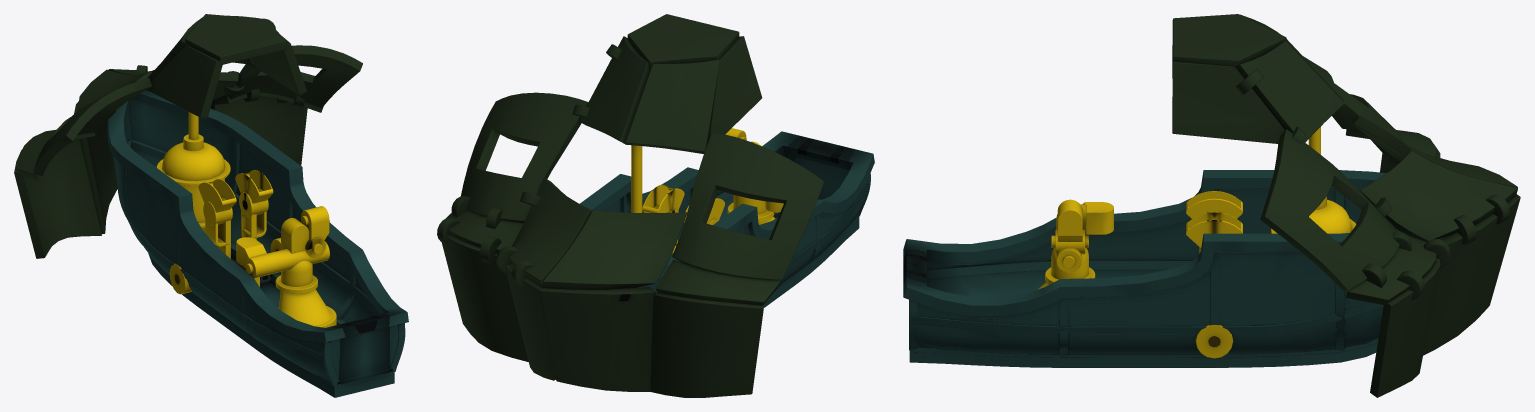
The model's file is NewBoat.glb.
The picture shows the model from 3 angles, left to right: view 1: azimuth 30°, elevation 25°; view 2: azimuth 150°, elevation 25°; view 3: azimuth 270°, elevation 25°; orthographic projection. The views are drawn at different scales.
Visible parts, largest first — view 1: boat, Armot, ControllerBase; view 2: Armot, boat, ControllerBase; view 3: boat, Armot, ControllerBase.
Part boxes in pixels (box(x1,y1,x2,y2)): boat: box(107, 90, 408, 397); Armot: box(14, 14, 362, 258); ControllerBase: box(156, 112, 336, 327); Armot: box(437, 14, 823, 397); boat: box(580, 131, 874, 308); ControllerBase: box(631, 128, 783, 253); boat: box(903, 170, 1446, 367); Armot: box(1172, 14, 1520, 397); ControllerBase: box(1038, 127, 1356, 358).
Bounding box in the file's own units: 3.27 × 2.71 × 4.92.
Materials: 3 (3 with a texture image).
